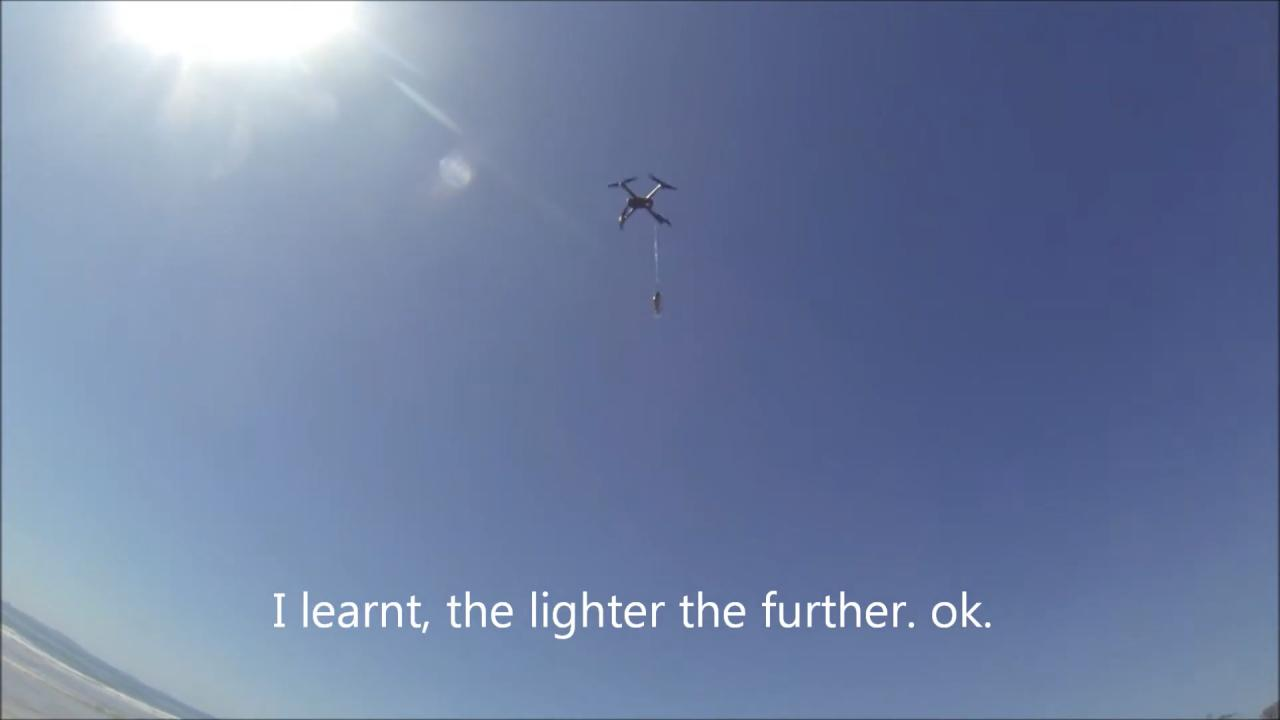Drone: (599, 162, 686, 238)
